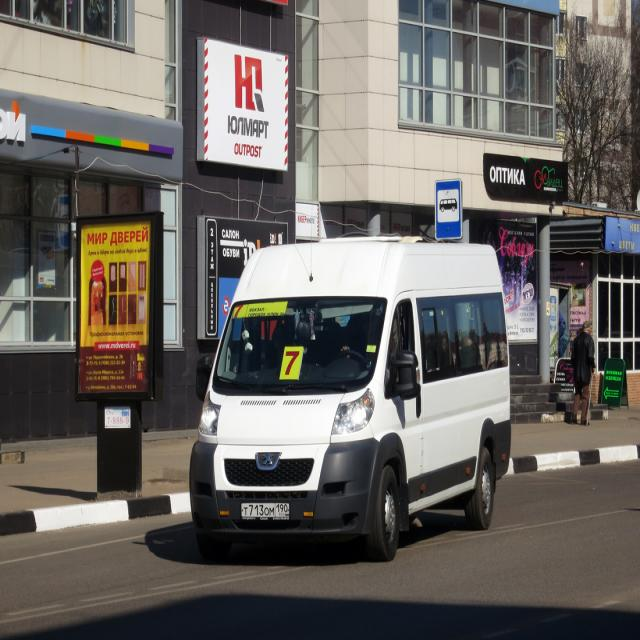number-of-bus: (283, 349, 302, 380)
